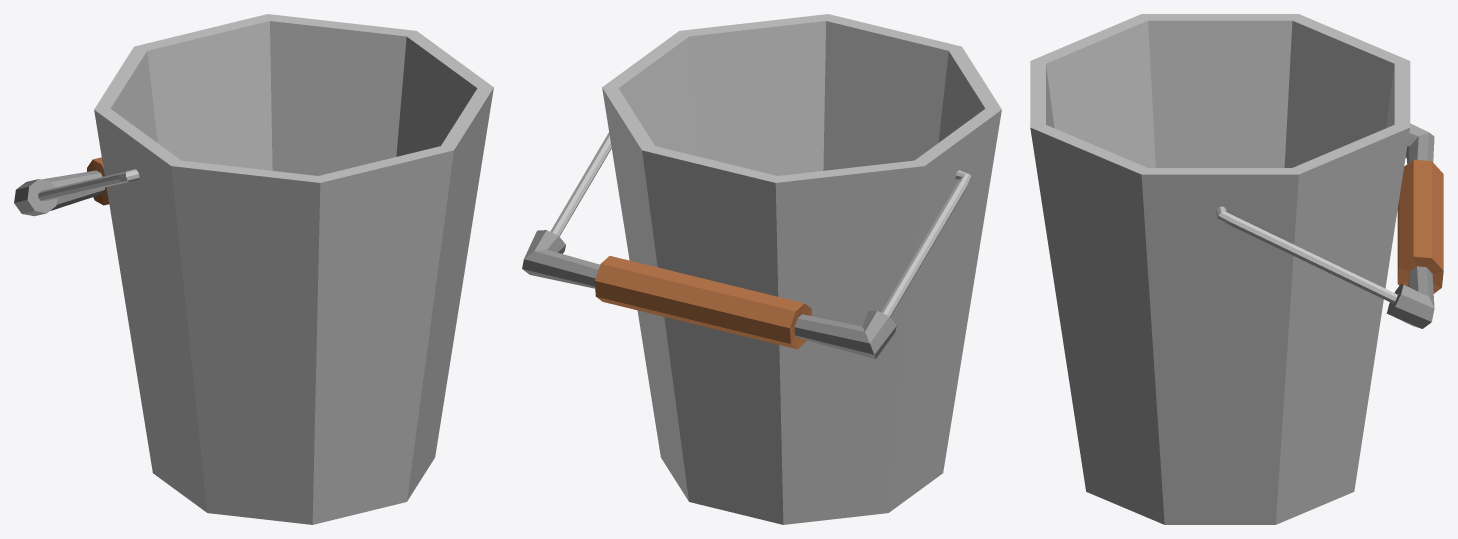
File: bucket01.obj
3 renders of one model, left to right at view 1: azimuth 30°, elevation 25°; view 2: azimuth 150°, elevation 25°; view 3: azimuth 270°, elevation 25°, orthographic.
Visible parts, largest first — view 1: Cylinder.001_Cylinder.002; view 2: Cylinder.001_Cylinder.002; view 3: Cylinder.001_Cylinder.002.
Part boxes in pixels (x1,y1,x2,y2): Cylinder.001_Cylinder.002: [14, 14, 493, 524]; Cylinder.001_Cylinder.002: [522, 14, 1001, 524]; Cylinder.001_Cylinder.002: [1030, 14, 1443, 524].
Size of the model in its own units: 0.2854 by 0.2769 by 0.2774.
1 material, 1 textured.
